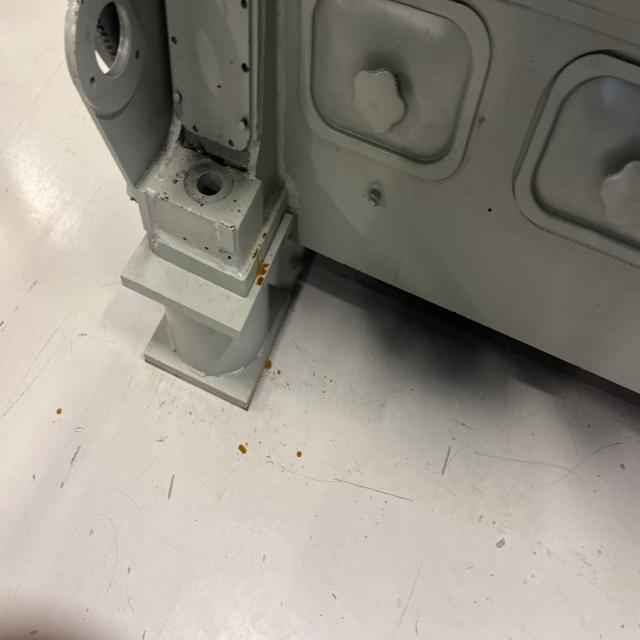Oil Leak: (245, 228, 284, 381)
